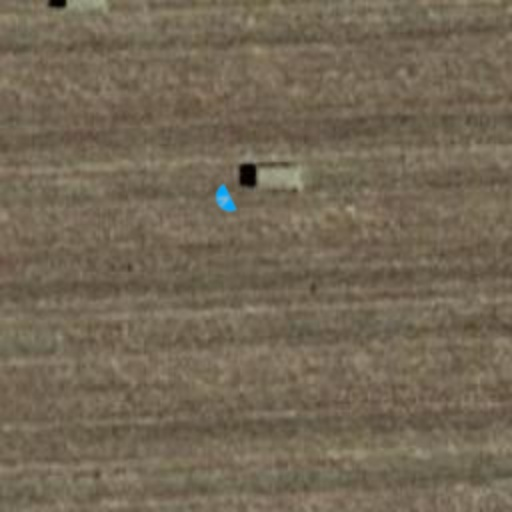semicircle: (204, 180, 244, 220)
